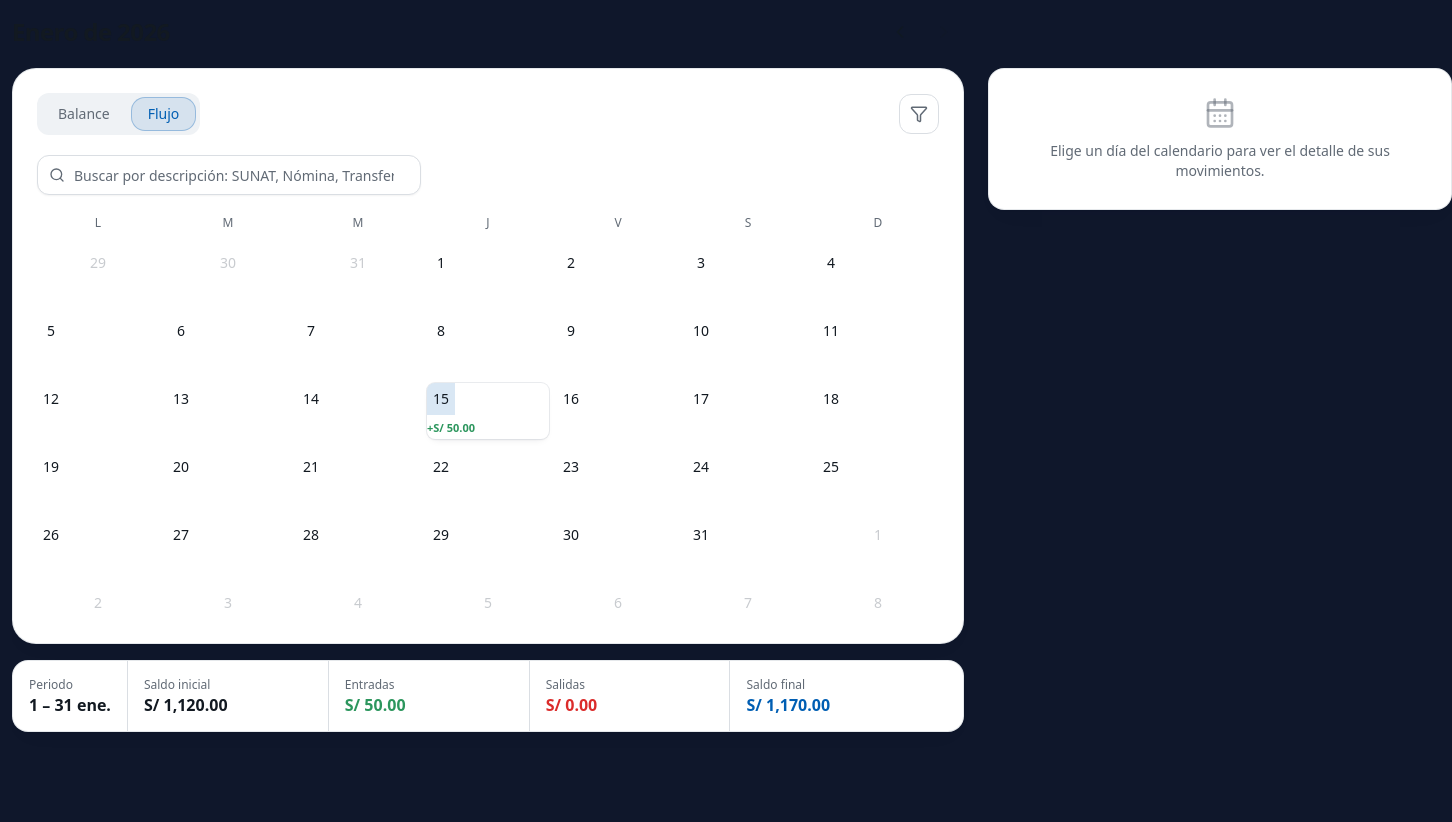
Test case: FinancialCalendarView: búsqueda en todos los meses › encuentra en otros meses y años, dice de qué documento viene y lleva a su día
Type "yape" into the search field. click: point(229, 175)
box: [37,155,421,195]
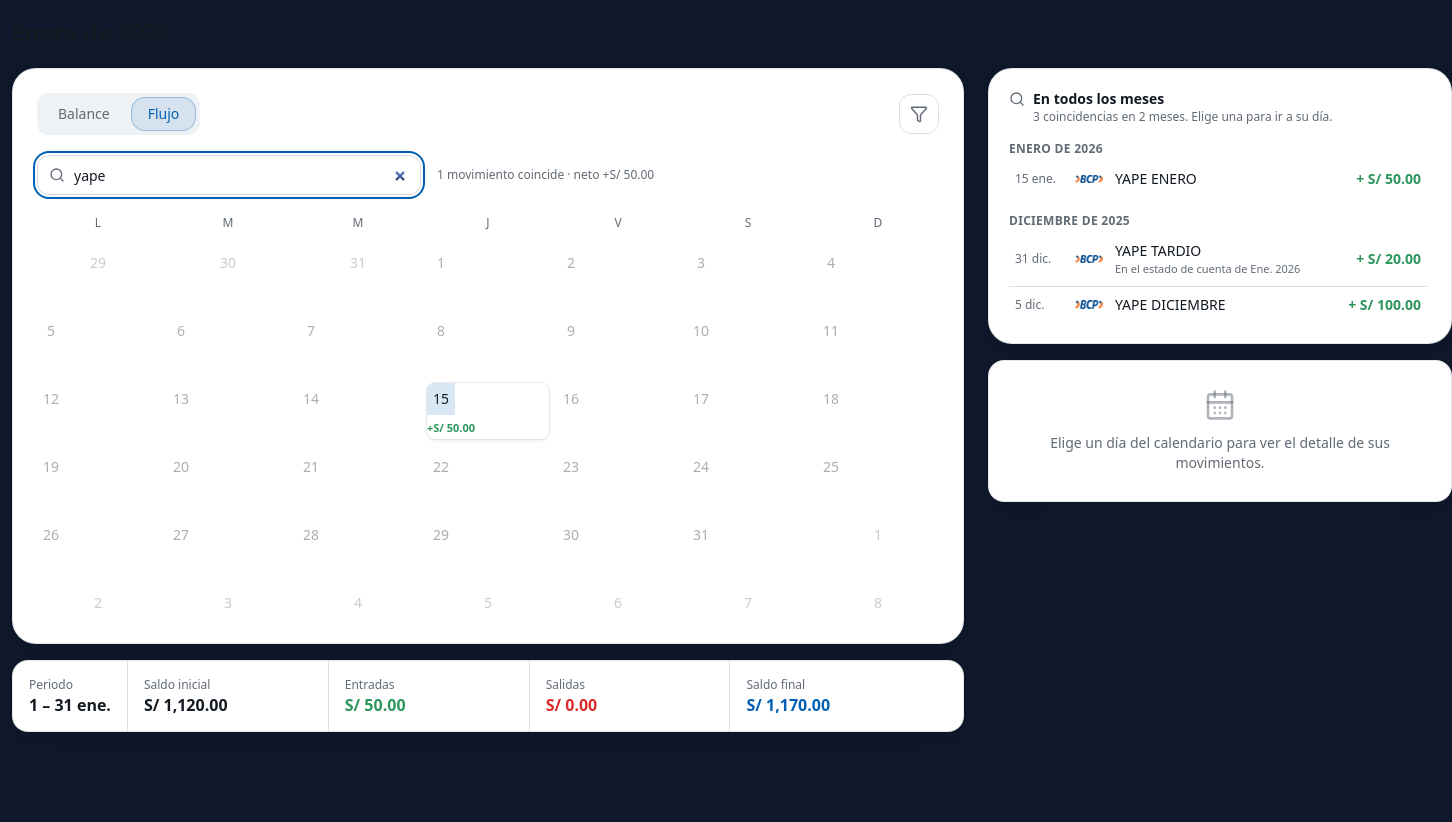
Expected: the text "3 coincidencias en 2 meses. Elige una para ir a su día." is shown, [1033,109,1332,125]
Expected: the text "Diciembre de 2025" is shown, [1009,209,1427,233]
Expected: the text "En el estado de cuenta de Ene. 2026" is shown, [1115,261,1300,276]
Click the button "YAPE TARDIO". click: point(1218, 259)
box: [1009,233,1427,286]
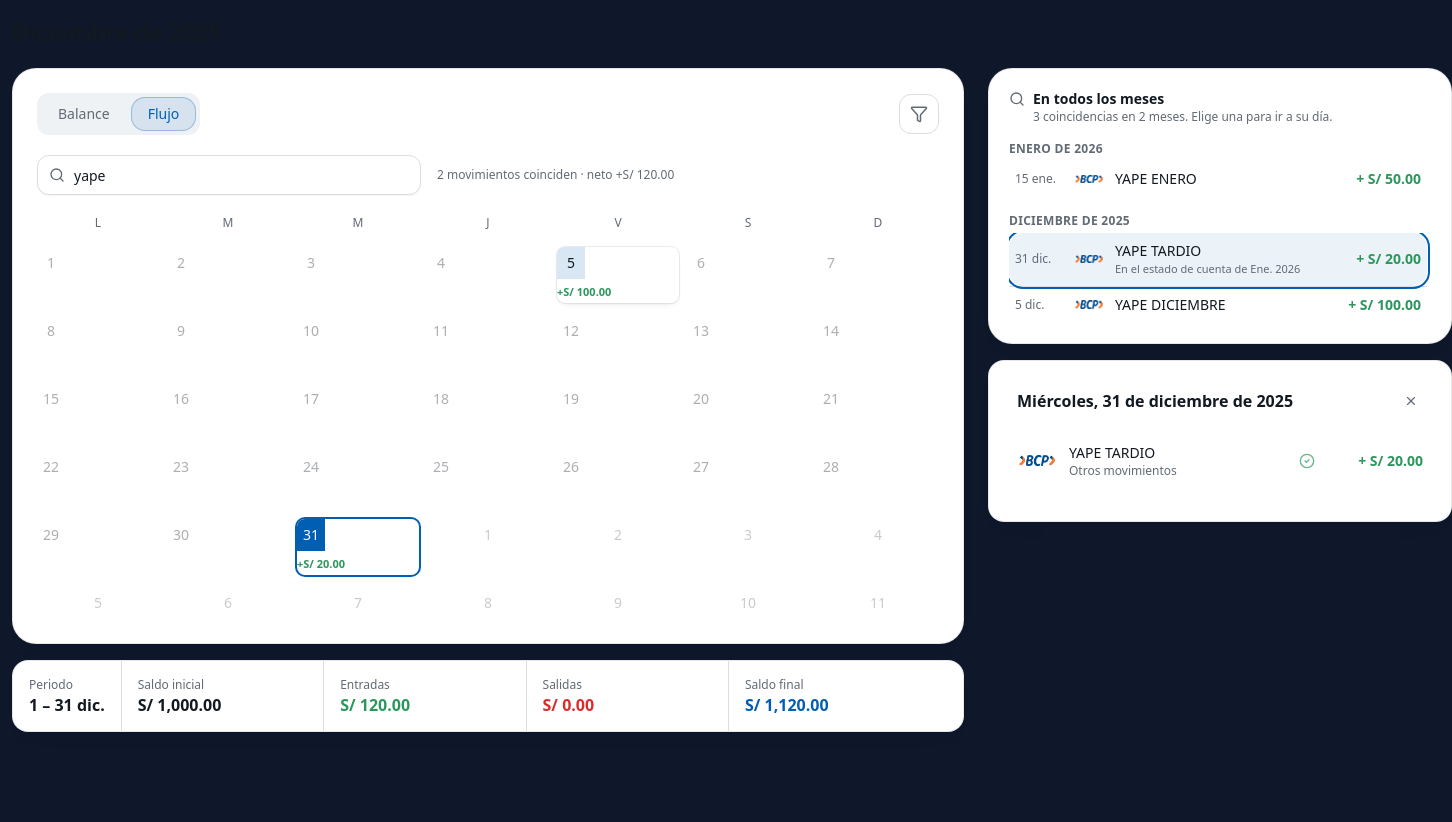
Expected: the heading "Miércoles, 31 de diciembre de 2025" is shown, [1017,388,1293,412]
